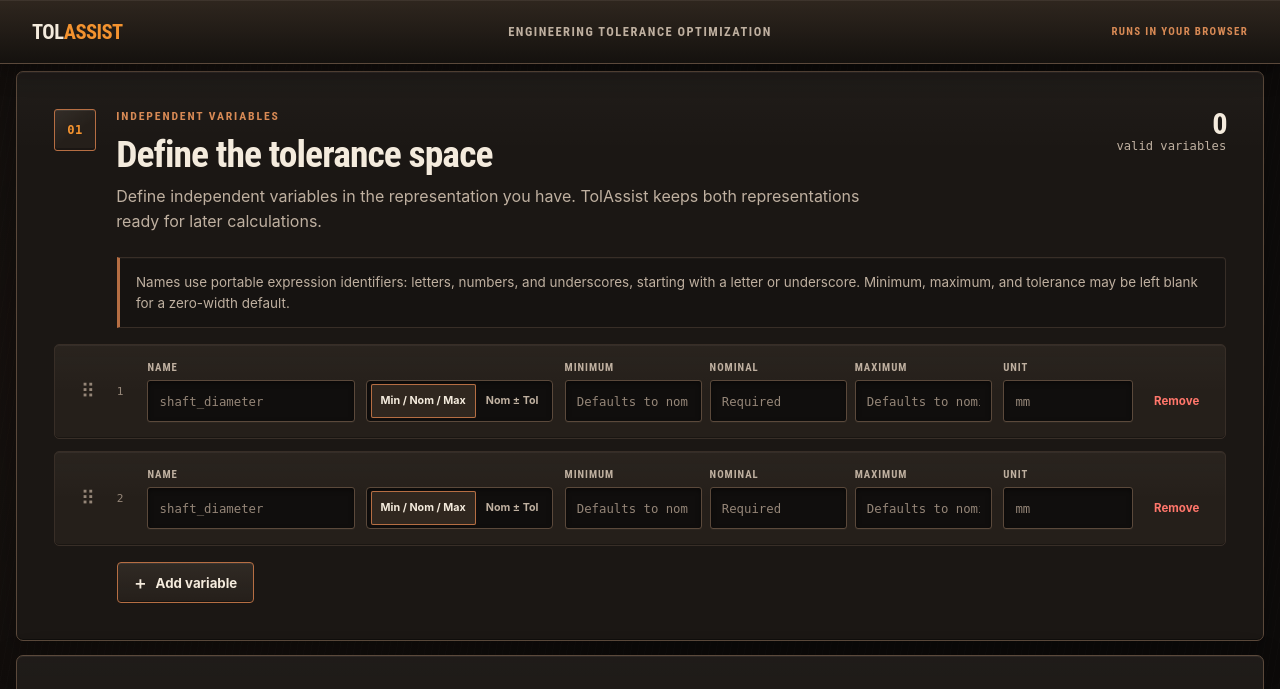
Test case: App › cancels an active optimization without creating a result
This screenshot has width=1280, height=689.
(page scrolled)
In the 1st field labelled "Name": (251, 401) [147,380,354,422], type "a"
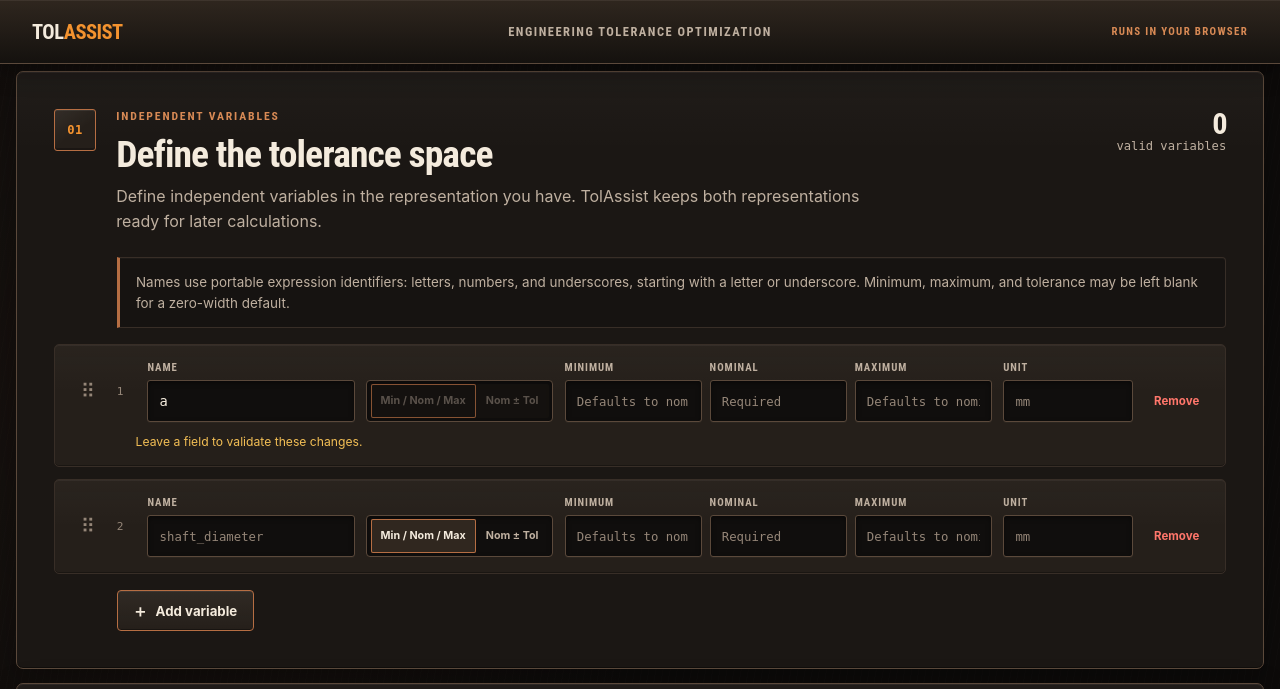
In the 1st field labelled "Minimum": (633, 401) [565,380,702,422], type "0"
In the 1st field labelled "Nominal": (778, 401) [710,380,847,422], type "5"
In the 1st field labelled "Maximum": (923, 401) [855,380,992,422], type "10"
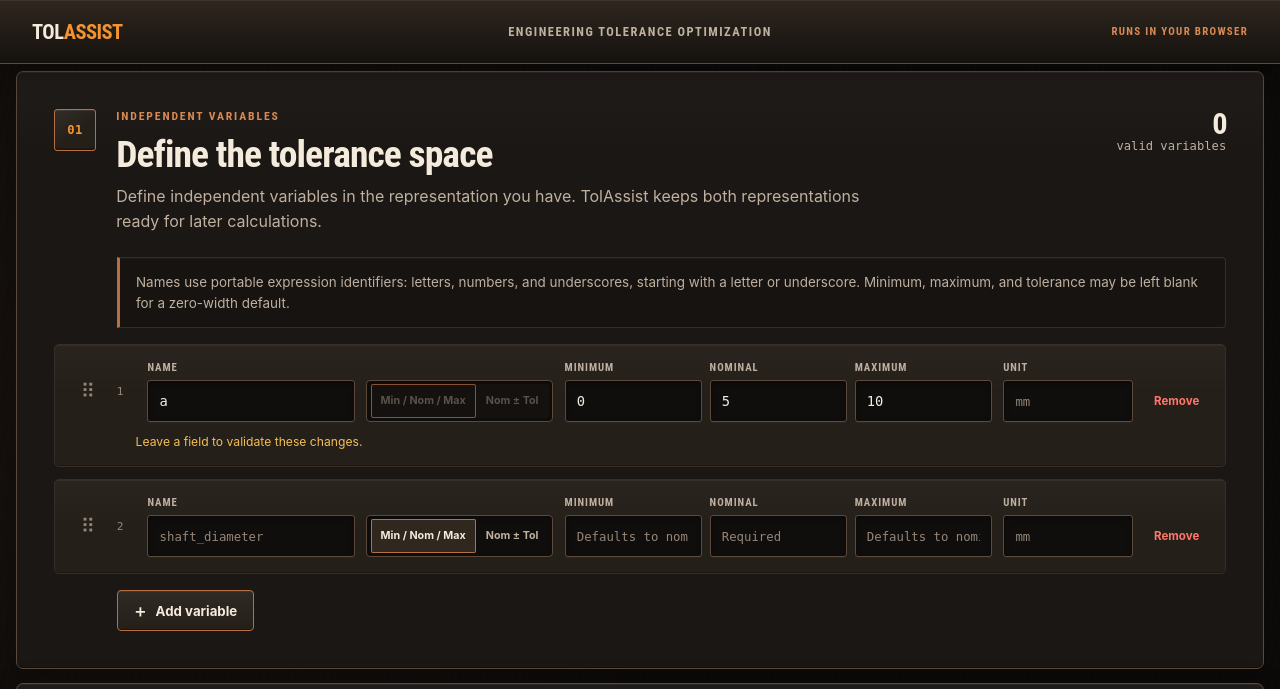
In the 1st field labelled "Unit": (1068, 401) [1003,380,1133,422], type "m"
(page scrolled)
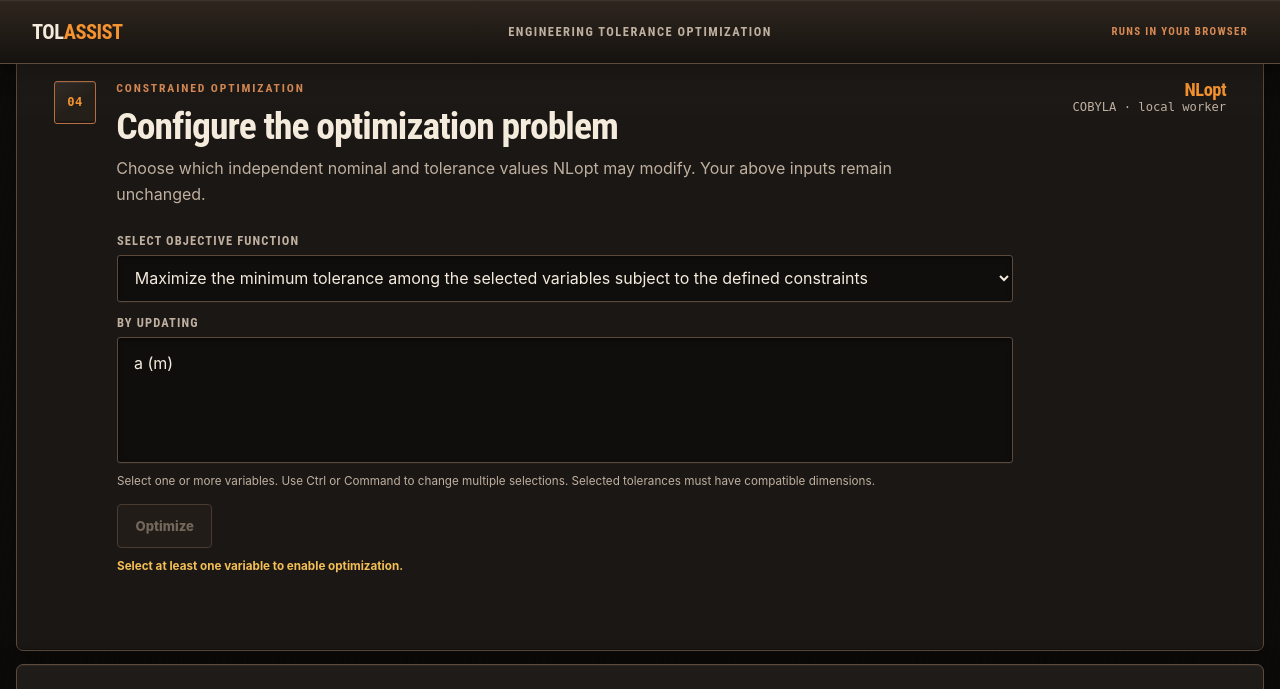
Select "a (m)" in the dropdown labelled "by updating": (565, 400) [117,337,1013,463]
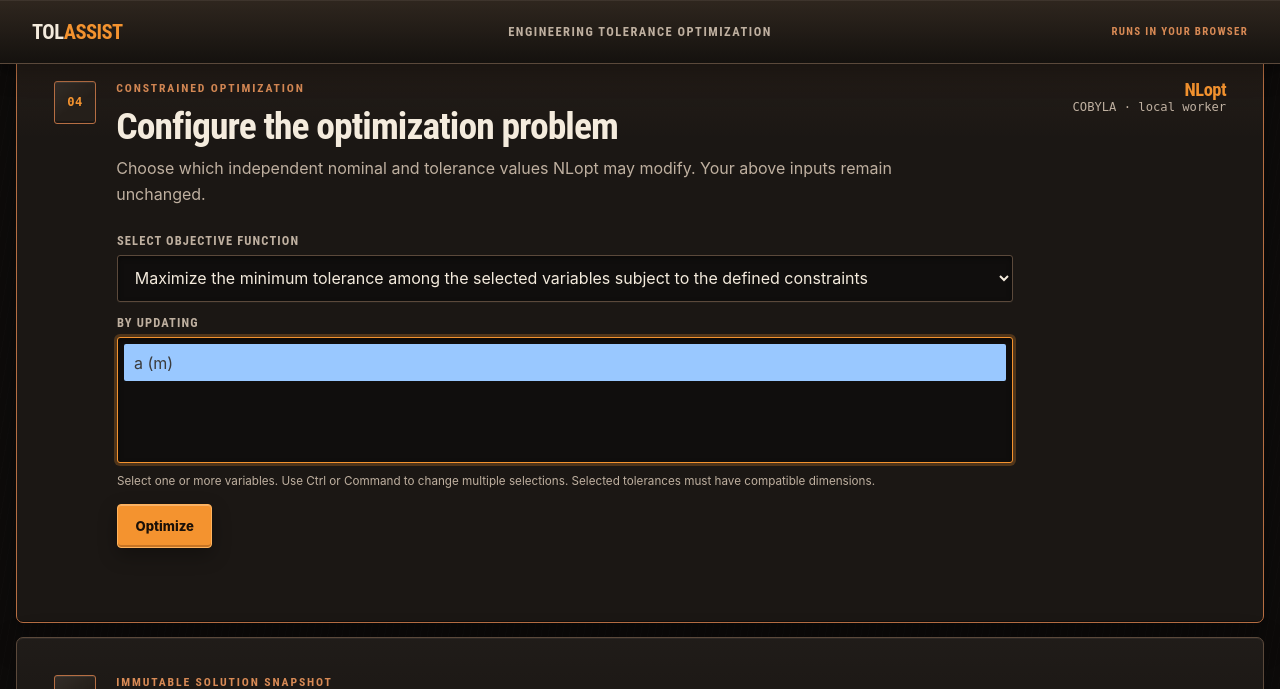
Click the button "Optimize": click(165, 526) [117,504,212,548]
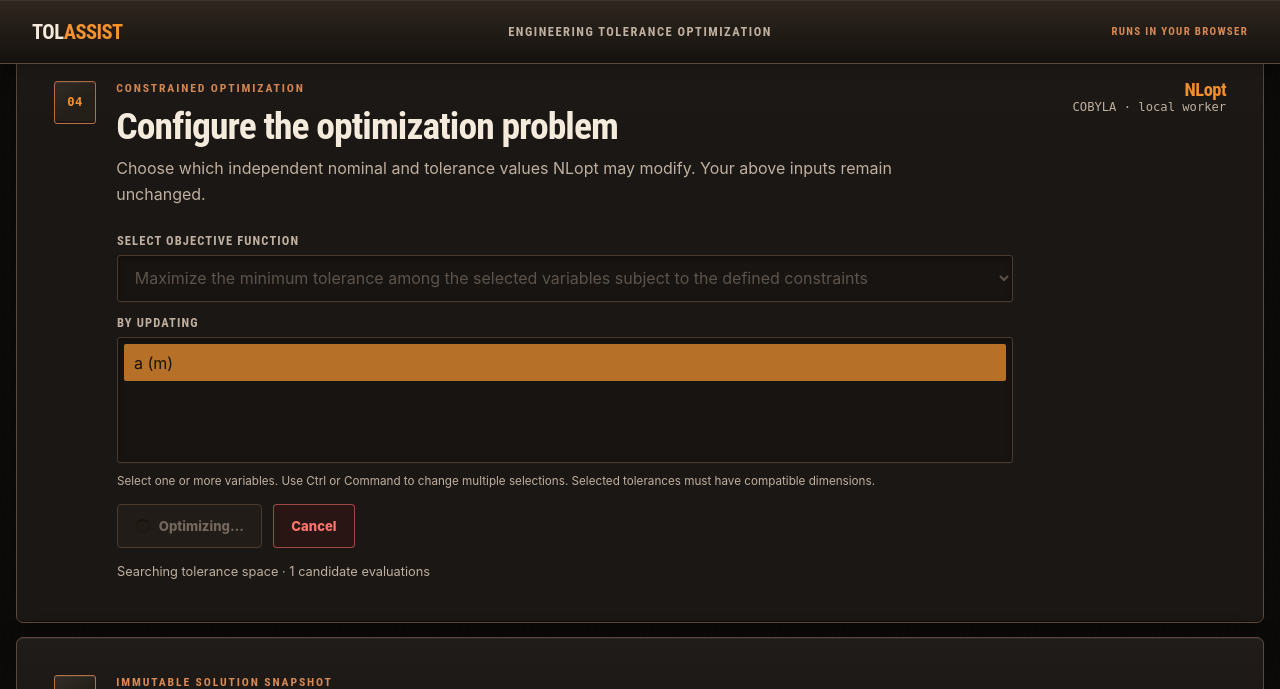
Click the button "Cancel": click(314, 526) [273,504,355,548]
(page scrolled)
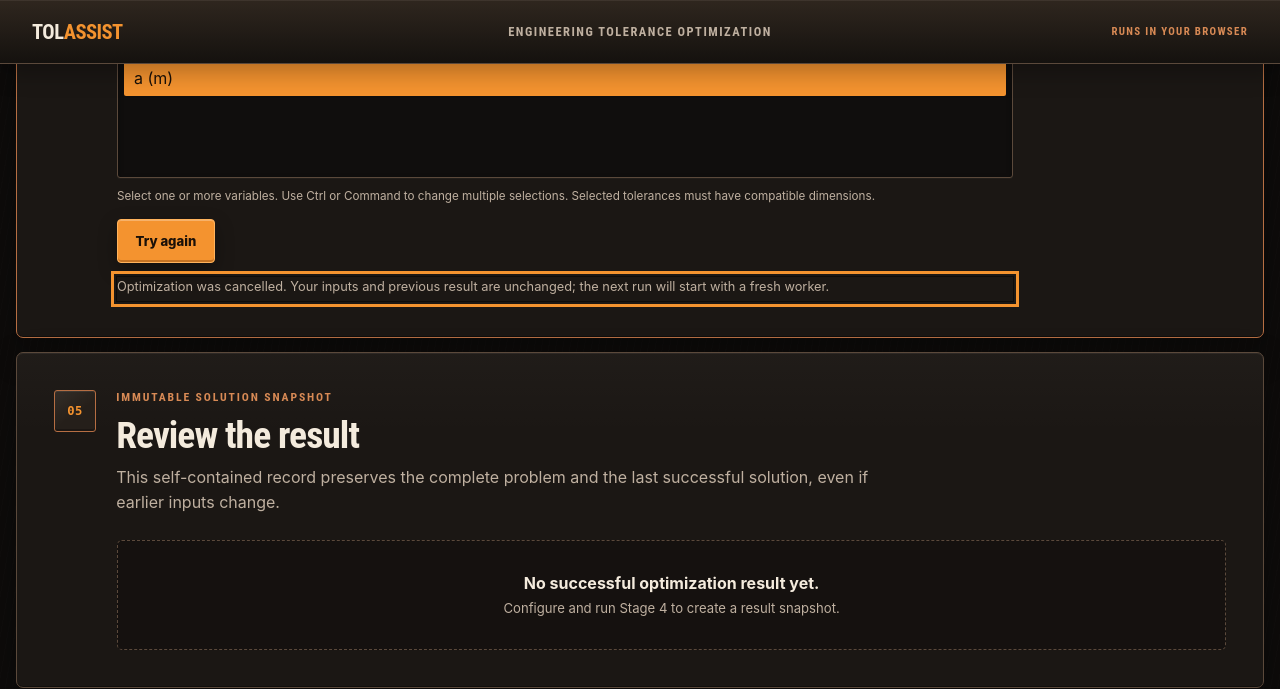
Expected: the text "No successful optimization result yet." is shown, [524,573,819,593]
Expected: the text "Optimization was cancelled." is shown, [117,279,829,294]
